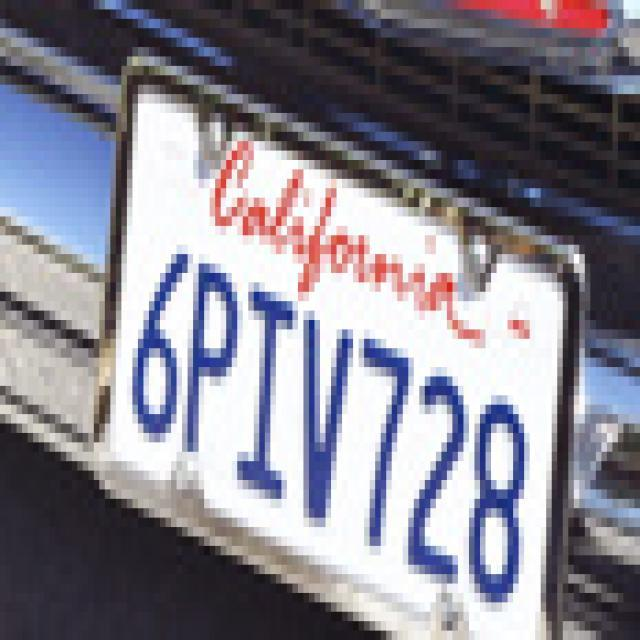6: (123, 204, 185, 447)
7: (356, 308, 412, 574)
8: (470, 370, 530, 630)
I: (238, 264, 298, 518)
P: (184, 235, 242, 477)
V: (296, 289, 357, 546)
